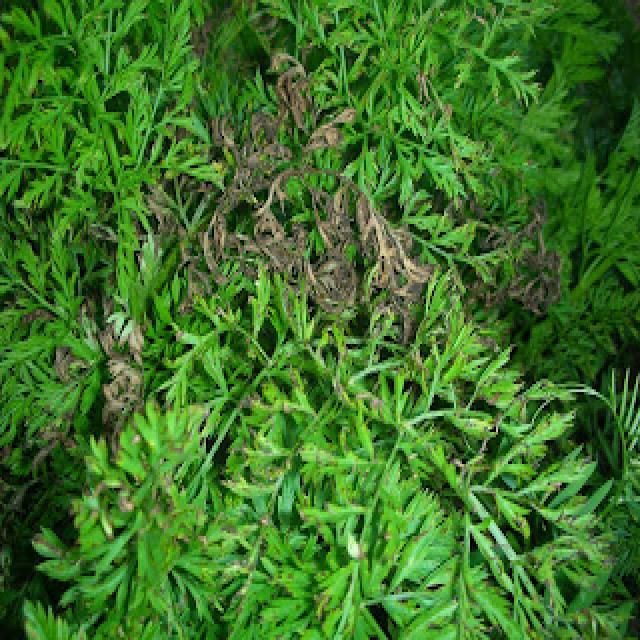Bacterial_Spot: (128, 36, 572, 402), (18, 221, 208, 515)
